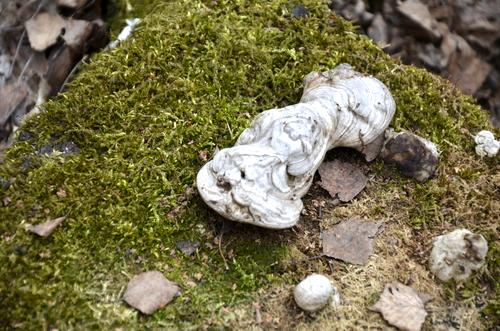Ganoderma - Fruit Body: (194, 61, 399, 228)
